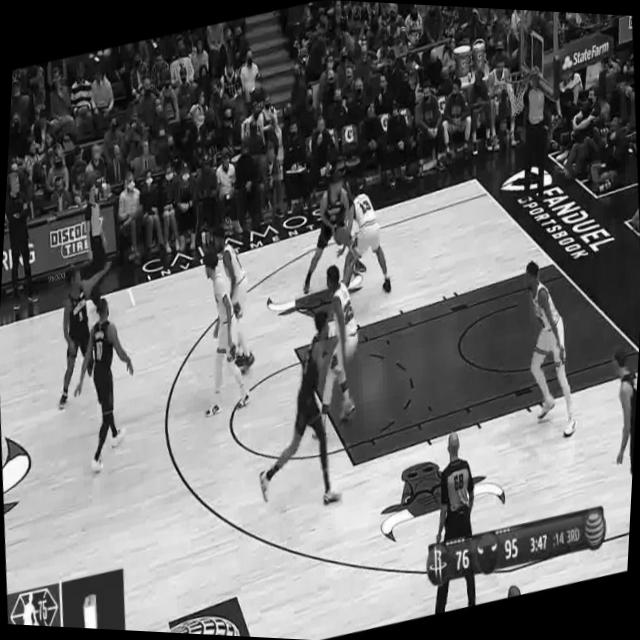ball-handler: (296, 160, 359, 286)
